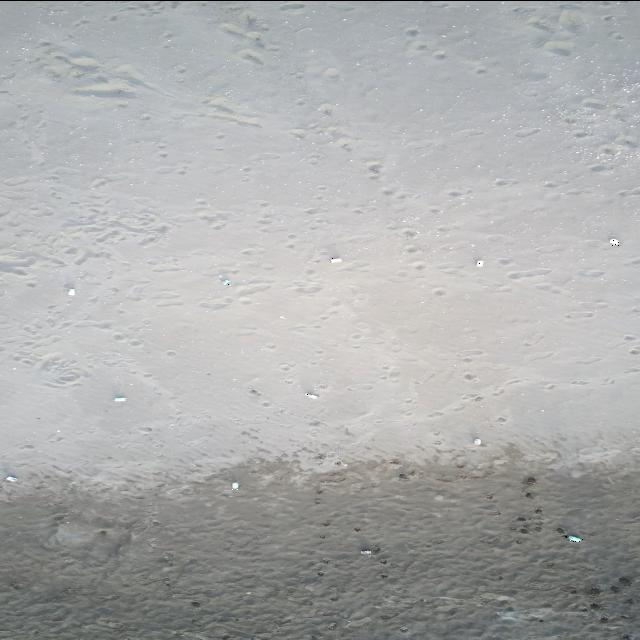Garbage: (564, 533, 582, 542), (219, 276, 230, 284), (360, 548, 372, 555), (329, 256, 340, 263), (112, 395, 125, 400), (304, 392, 317, 397), (472, 437, 480, 444), (5, 475, 16, 480), (221, 278, 230, 284), (609, 239, 619, 244), (232, 482, 239, 489), (475, 260, 483, 266), (68, 287, 74, 295), (400, 626, 407, 632)
